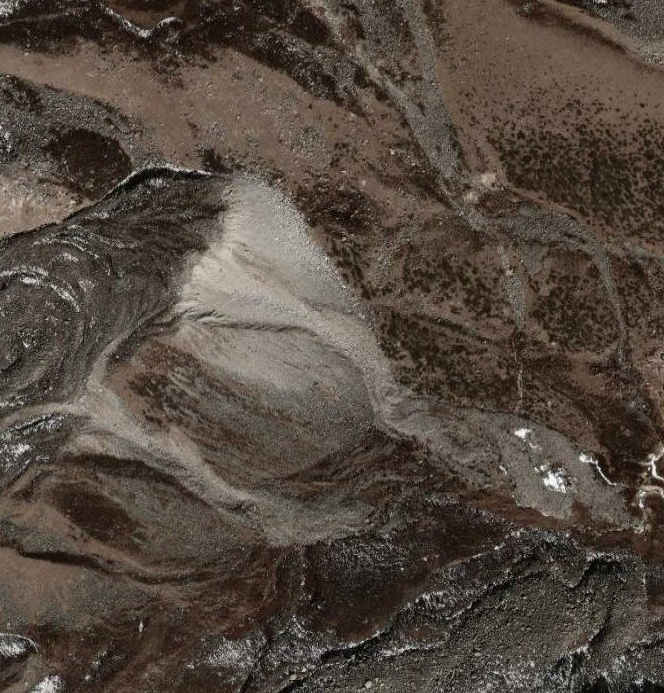slope: (49, 171, 630, 538)
